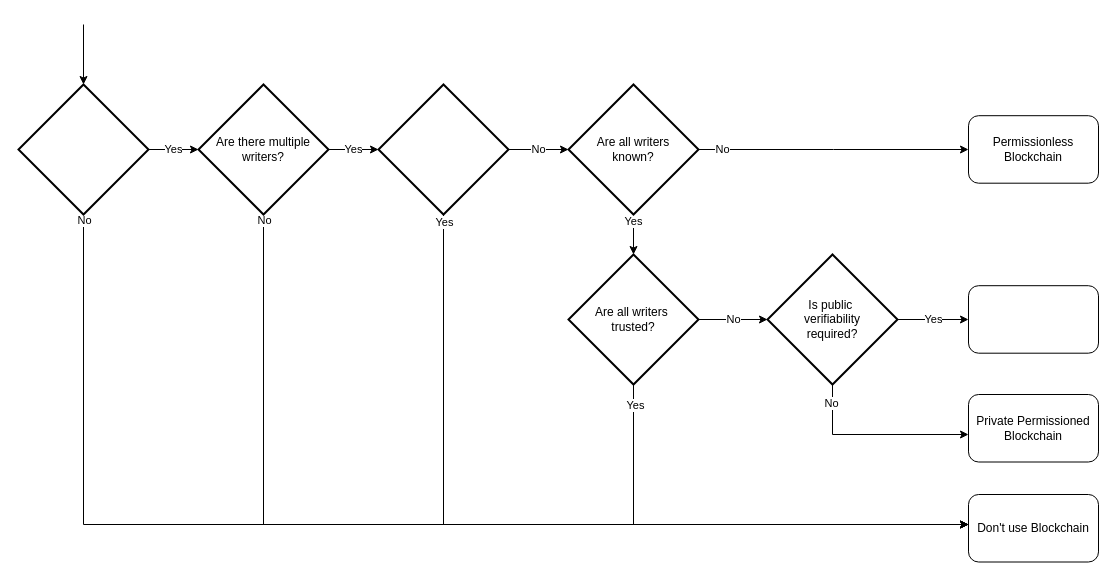
This 1116x580 diagram has some shape labels left out. The box of each missing label's shape, as (x1, y1, x2, y2) in pixels:
Can you use an always online TTP?: (377, 83, 509, 215)
Do you need to store state?: (17, 83, 149, 215)
Public Permissioned Blockchain: (968, 285, 1098, 353)
